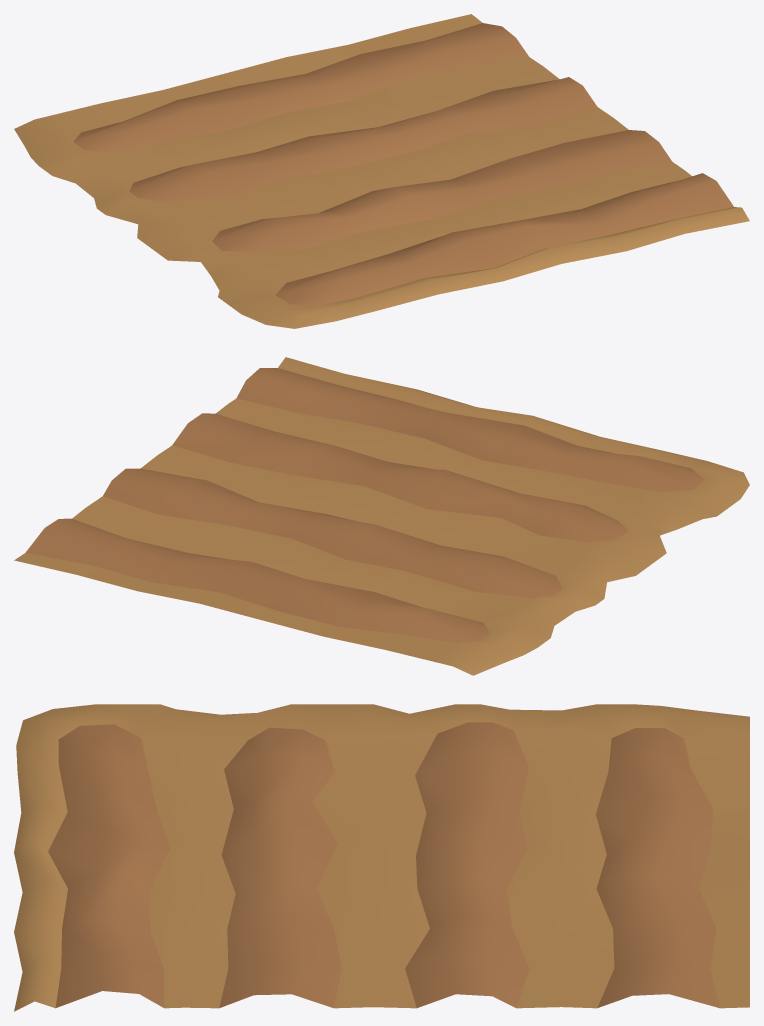
The model's file is Building_model_0_Fieldbackrightedge001.fbx.
3 views of the same model, one above another, from view 1: azimuth 30°, elevation 25°; view 2: azimuth 150°, elevation 25°; view 3: azimuth 270°, elevation 25° (orthographic). The views are drawn at different scales.
Parts seen in each view (by area): view 1: Building_model_0_Fieldbackrightedge001; view 2: Building_model_0_Fieldbackrightedge001; view 3: Building_model_0_Fieldbackrightedge001.
Part boxes in pixels (<box>): Building_model_0_Fieldbackrightedge001: <box>14,14,749,328</box>; Building_model_0_Fieldbackrightedge001: <box>14,357,749,675</box>; Building_model_0_Fieldbackrightedge001: <box>14,704,749,1011</box>.
Bounding box in the file's own units: 2.9 × 0.0999 × 2.93.
